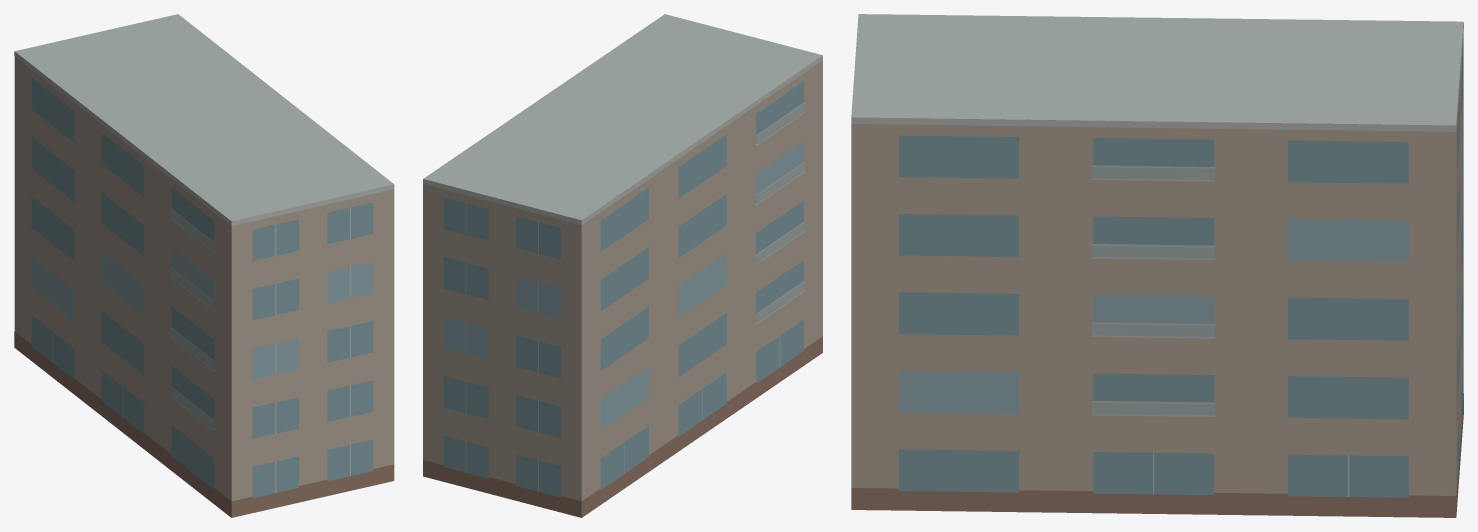
Rendered from survey-upis-32653429.glb.
3 views of the same model, side by side, from view 1: azimuth 30°, elevation 25°; view 2: azimuth 150°, elevation 25°; view 3: azimuth 270°, elevation 25° (orthographic). The views are drawn at different scales.
Visible parts, largest first — view 1: survey-upis-32653429.tmp; view 2: survey-upis-32653429.tmp; view 3: survey-upis-32653429.tmp.
Boxes of the visible parts, x1,y1,x2,y2 form: survey-upis-32653429.tmp: [14, 14, 394, 517]; survey-upis-32653429.tmp: [423, 14, 822, 517]; survey-upis-32653429.tmp: [851, 14, 1463, 517].
Bounding box in the file's own units: 8.96 × 14.7 × 20.8.
